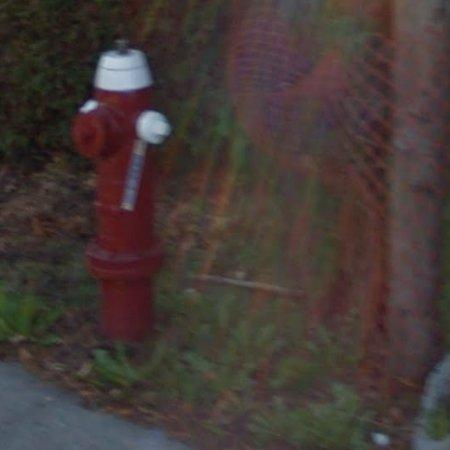a fire hydrant: (71, 42, 171, 342)
